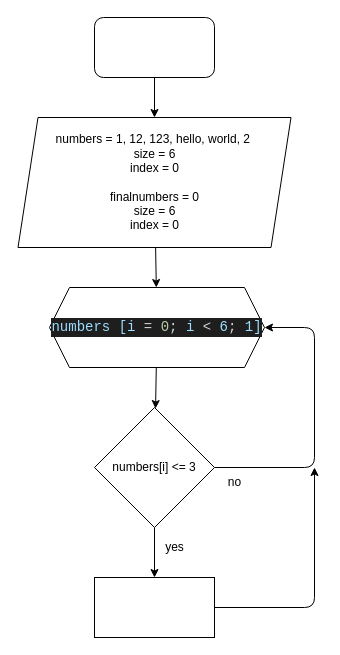
Image size: 340x655. Some labels were removed from this diagram. The shapes that lost their labels are listed below. From the top down, each one's centre as x and y in pixels, then its label:
At pixel 154 47: "Start".
At pixel 154 607: "finalnumbers[i] = numbers[i]".
